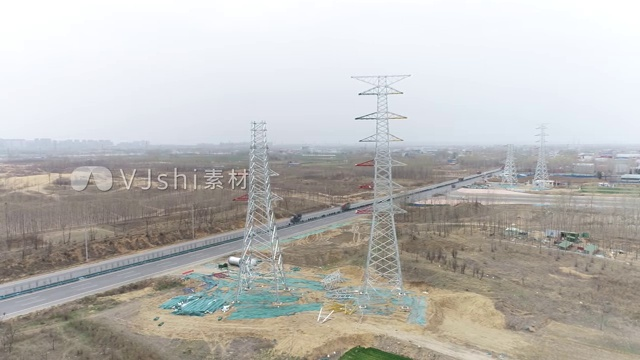tower_body: (342, 66, 422, 308), (232, 116, 298, 309), (535, 123, 554, 192), (502, 136, 517, 186)
tower_foot: (234, 256, 291, 305), (356, 258, 411, 304)
tower_head: (348, 72, 418, 99)
